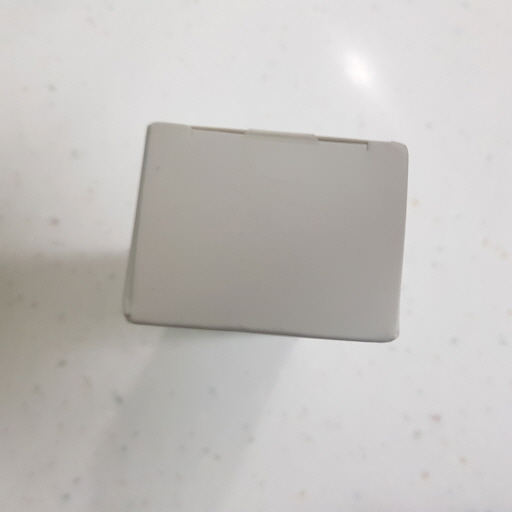Paper_0: (121, 122, 412, 362)
